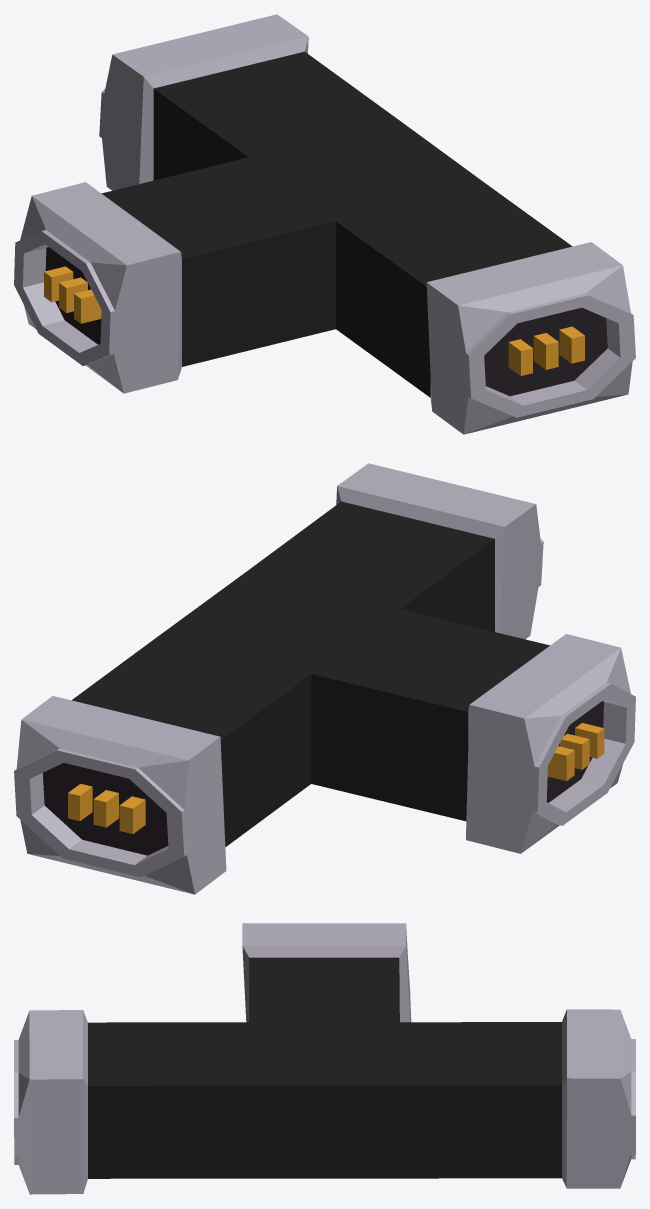
File: cable T.fbx
3 renders of one model, top to bottom at view 1: azimuth 30°, elevation 25°; view 2: azimuth 150°, elevation 25°; view 3: azimuth 270°, elevation 25°, orthographic. The views are drawn at different scales.
Visible parts, largest first — view 1: Cable L.001; view 2: Cable L.001; view 3: Cable L.001.
Part boxes in pixels (<box>): Cable L.001: <box>14,14,635,434</box>; Cable L.001: <box>14,463,635,894</box>; Cable L.001: <box>14,923,635,1194</box>.
Bounding box in the file's own units: 1.28 × 0.4081 × 2.04.
